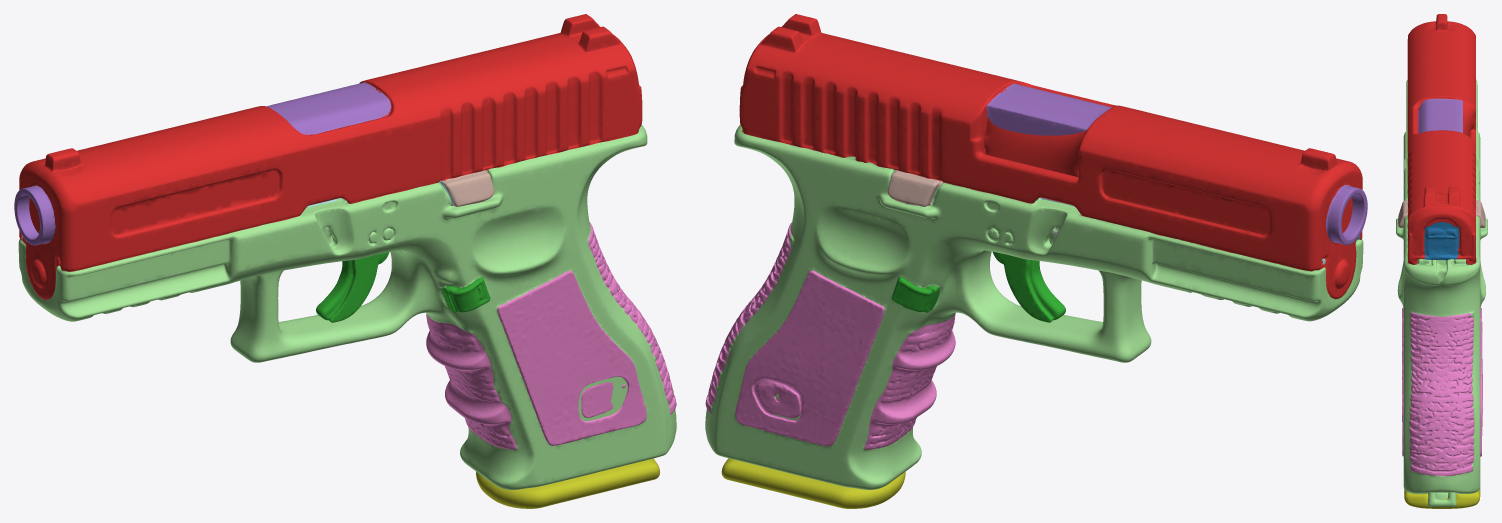
The model's file is midnight-glock.glb.
3 renders of one model, left to right at view 1: azimuth 30°, elevation 25°; view 2: azimuth 150°, elevation 25°; view 3: azimuth 270°, elevation 25°, orthographic. The views are drawn at different scales.
Visible parts, largest first — view 1: model_part23, model_part20, model_part6, model_part4, model_part21, model_part7, model_part18, model_part8, model_part13, model_part3; view 2: model_part23, model_part20, model_part5, model_part21, model_part4, model_part7, model_part18, model_part8, model_part14, model_part2; view 3: model_part20, model_part23, model_part8, model_part21, model_part15, model_part7, model_part5, model_part6, model_part13, model_part14.
Part boxes in pixels (x1=…): model_part23: x1=18, y1=125, x2=676, y2=490; model_part20: x1=19, y1=14, x2=642, y2=299; model_part6: x1=497, y1=270, x2=646, y2=445; model_part4: x1=426, y1=314, x2=516, y2=449; model_part21: x1=14, y1=82, x2=391, y2=245; model_part7: x1=476, y1=458, x2=659, y2=508; model_part18: x1=316, y1=252, x2=389, y2=322; model_part8: x1=588, y1=222, x2=676, y2=414; model_part13: x1=443, y1=170, x2=494, y2=206; model_part3: x1=442, y1=277, x2=490, y2=312; model_part23: x1=705, y1=124, x2=1363, y2=489; model_part20: x1=739, y1=14, x2=1362, y2=298; model_part5: x1=735, y1=270, x2=884, y2=446; model_part21: x1=986, y1=83, x2=1367, y2=245; model_part4: x1=864, y1=313, x2=955, y2=449; model_part7: x1=721, y1=458, x2=905, y2=508; model_part18: x1=992, y1=251, x2=1065, y2=322; model_part8: x1=705, y1=222, x2=791, y2=413; model_part14: x1=887, y1=170, x2=942, y2=206; model_part2: x1=892, y1=277, x2=939, y2=312; model_part20: x1=1407, y1=14, x2=1476, y2=264; model_part23: x1=1396, y1=79, x2=1487, y2=506; model_part8: x1=1409, y1=312, x2=1474, y2=476; model_part21: x1=1418, y1=98, x2=1463, y2=133; model_part15: x1=1424, y1=222, x2=1459, y2=260; model_part7: x1=1404, y1=487, x2=1480, y2=508; model_part5: x1=1480, y1=308, x2=1482, y2=456; model_part6: x1=1402, y1=308, x2=1403, y2=456; model_part13: x1=1398, y1=200, x2=1407, y2=228; model_part14: x1=1476, y1=200, x2=1485, y2=227.
Size of the model in its own units: 0.2 by 0.1351 by 0.037.
